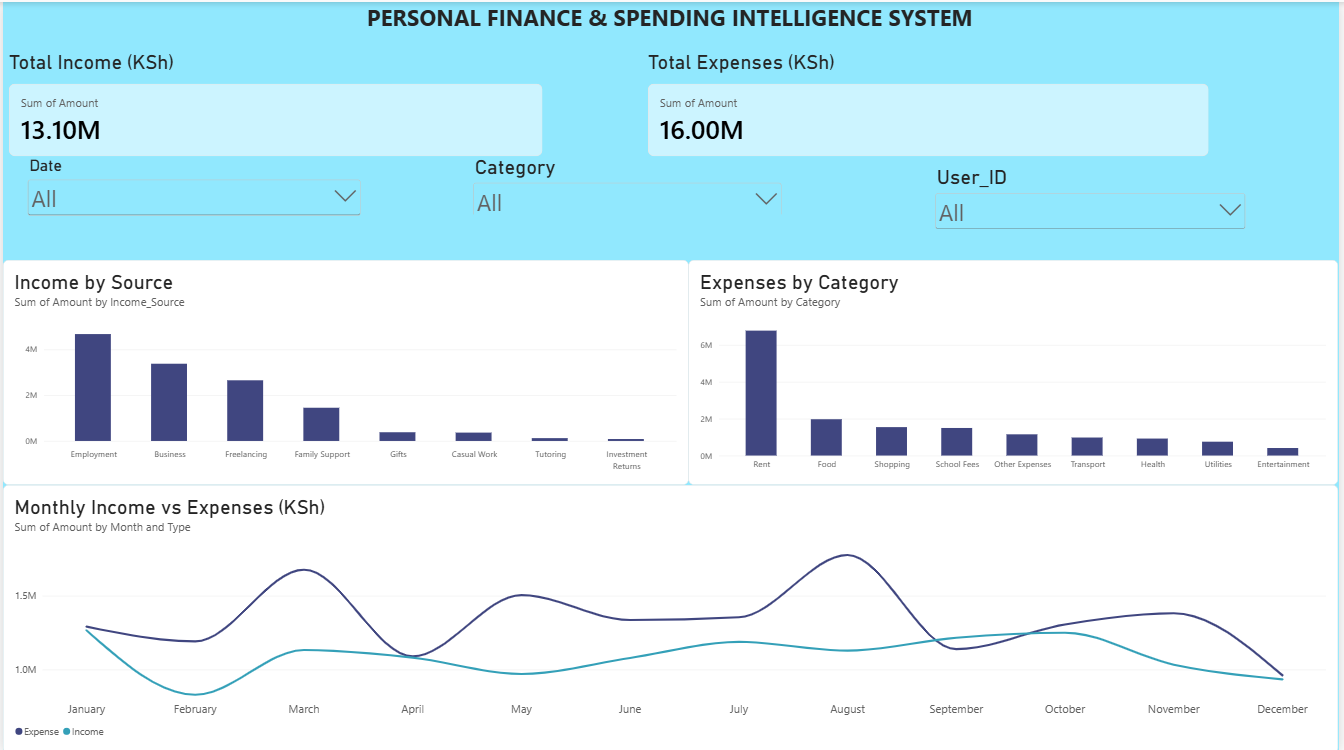

The dashboard page shown, as its layout file describes it:
{"tool":"powerbi","page":{"name":"Financial Overview","canvas":[1920,1080],"ordinal":0},"visuals":[{"type":"cardVisual","title":"Total Income (KSh)","fields":{"Data":["Sum(synthetic_financial_transactions.Amount)"]},"box":[8.8,68,767.3,153.5],"z":0},{"type":"cardVisual","title":"Total Expenses (KSh)","fields":{"Data":["Sum(synthetic_financial_transactions.Amount)"]},"box":[927.3,68,806.7,153.5],"z":1000},{"type":"clusteredColumnChart","title":"Income by Source","fields":{"Category":["synthetic_financial_transactions.Income_Source"],"Y":["Sum(synthetic_financial_transactions.Amount)"]},"box":[0,371,985.8,323.6],"z":2000},{"type":"clusteredColumnChart","title":"Expenses by Category","fields":{"Category":["synthetic_financial_transactions.Category"],"Y":["Sum(synthetic_financial_transactions.Amount)"]},"box":[985.8,371,934.1,323.6],"z":3000},{"type":"lineChart","title":"Monthly Income vs Expenses (KSh)","fields":{"Category":["synthetic_financial_transactions.Date.Variation.Date Hierarchy.Year","synthetic_financial_transactions.Date.Variation.Date Hierarchy.Quarter","synthetic_financial_transactions.Date.Variation.Date Hierarchy.Month","synthetic_financial_transactions.Date.Variation.Date Hierarchy.Day"],"Series":["synthetic_financial_transactions.Type"],"Y":["Sum(synthetic_financial_transactions.Amount)"]},"box":[0,694.6,1919.9,386.1],"z":4000},{"type":"textbox","box":[0,0,1918.2,68],"z":5000},{"type":"slicer","fields":{"Values":["synthetic_financial_transactions.Date"]},"box":[30.7,221.4,488.9,85.5],"z":6000},{"type":"slicer","fields":{"Values":["synthetic_financial_transactions.User_ID"]},"box":[1335.1,235.3,456.4,90.7],"z":7000},{"type":"slicer","fields":{"Values":["synthetic_financial_transactions.Category"]},"box":[671.8,221.1,453.5,85],"z":8000}]}

Visuals, with their boxes in screenshot pixels (x1, y1, x2, y2), scaled from the page's 1920x1080 canvas onto the 1344x750 screenshot:
"Total Income (KSh)" cardVisual: <region>6, 47, 543, 154</region>
"Total Expenses (KSh)" cardVisual: <region>649, 47, 1214, 154</region>
"Income by Source" clusteredColumnChart: <region>0, 258, 690, 482</region>
"Expenses by Category" clusteredColumnChart: <region>690, 258, 1343, 482</region>
"Monthly Income vs Expenses (KSh)" lineChart: <region>0, 482, 1343, 749</region>
textbox: <region>0, 0, 1343, 47</region>
slicer - synthetic_financial_transactions.Date: <region>21, 154, 364, 213</region>
slicer - synthetic_financial_transactions.User_ID: <region>935, 163, 1254, 226</region>
slicer - synthetic_financial_transactions.Category: <region>470, 154, 788, 213</region>
